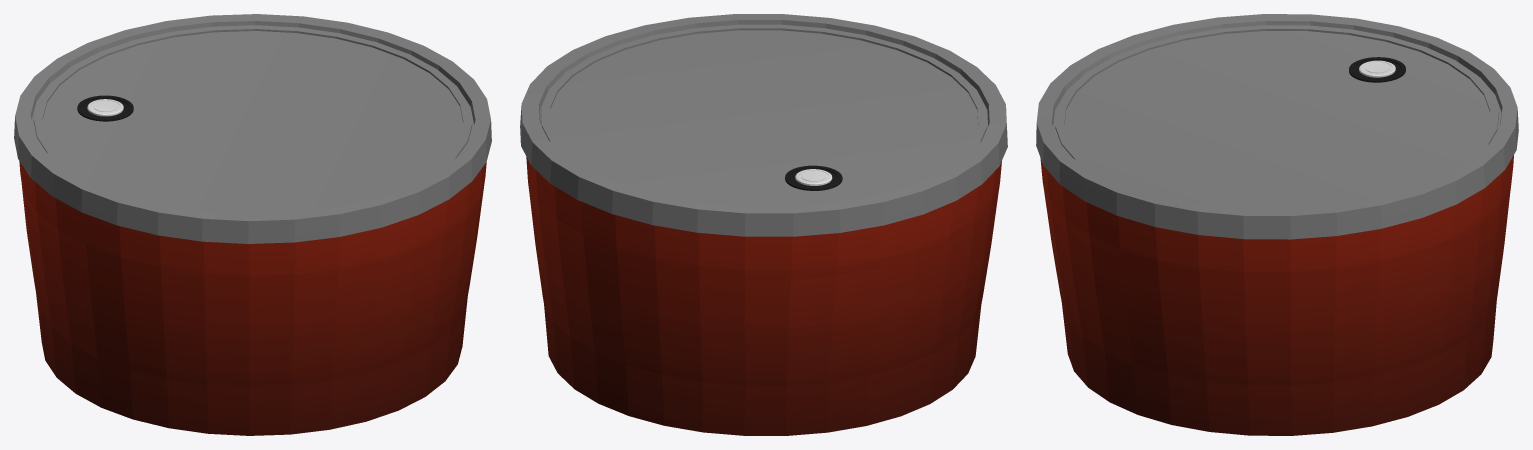
Rendered from Small Industrial Bucket Red.fbx.
3 views of the same model, side by side, from view 1: azimuth 30°, elevation 25°; view 2: azimuth 150°, elevation 25°; view 3: azimuth 270°, elevation 25° (orthographic).
Parts seen in each view (by area): view 1: Small Industrial Bucket Red; view 2: Small Industrial Bucket Red; view 3: Small Industrial Bucket Red.
Boxes of the visible parts, x1,y1,x2,y2 form: Small Industrial Bucket Red: (14,14,491,435); Small Industrial Bucket Red: (520,14,1007,435); Small Industrial Bucket Red: (1036,14,1518,435).
Bounding box in the file's own units: 118 × 218 × 219.
1 material, 1 textured.
